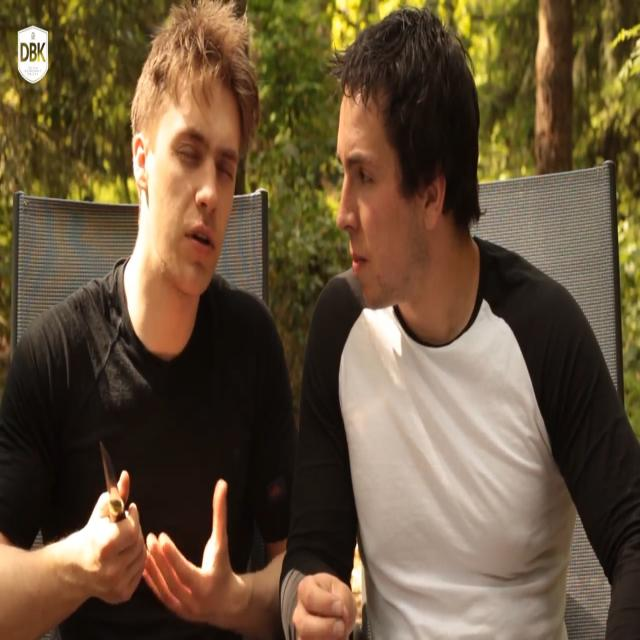knife: (98, 436, 126, 525)
